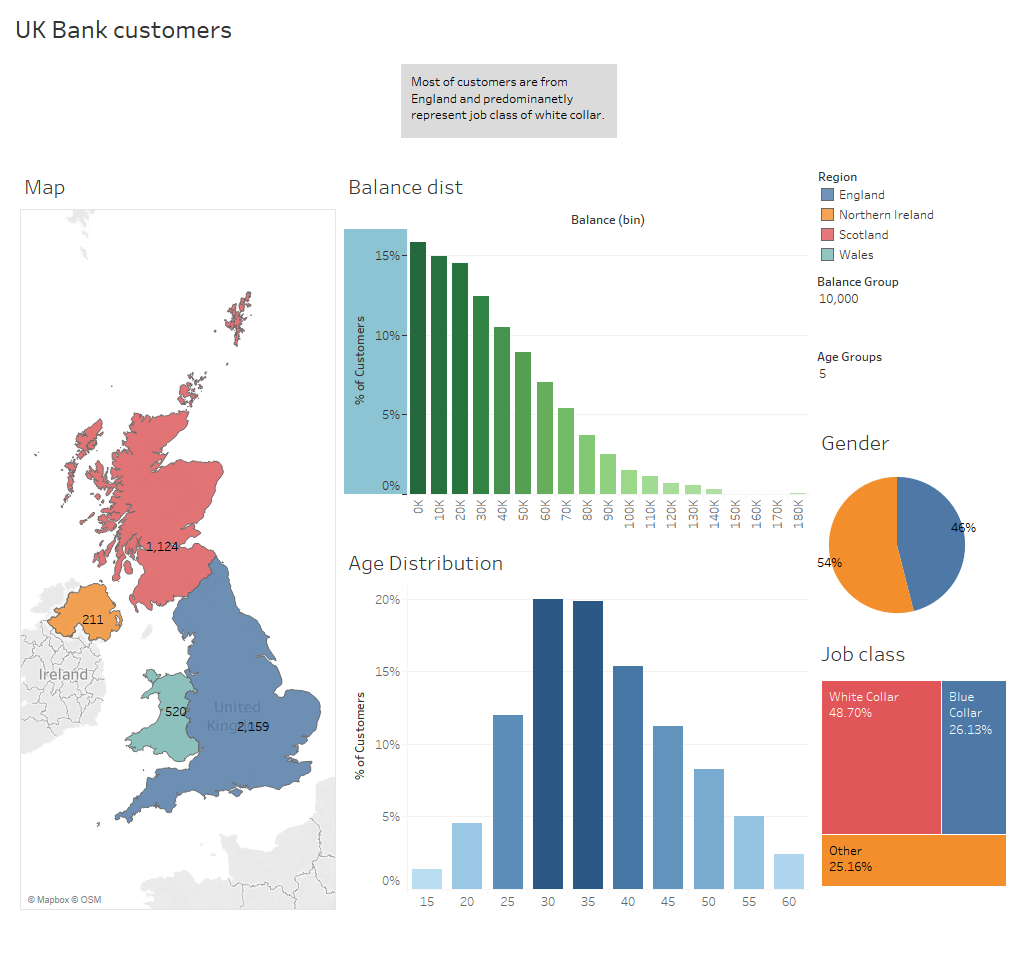

Layout of this report page (visuals, bound fields, positions):
{"tool":"tableau","page":{"name":"Dashboard 1","canvas":[1024,768],"ordinal":0},"visuals":[{"type":"worksheet","title":"Map","mark":"Multipolygon","box":[8,8,324.1,752]},{"type":"worksheet","title":"Balance dist","mark":"Automatic","rows":["Number of Records"],"cols":["Balance (bin)"],"box":[332.1,8,473,376]},{"type":"legend","title":"Map","param":"[federated.0als0vj0255fz810hfyob1jdxxc9].[none:Region:nk]","box":[805,8,211,106]},{"type":"parameter","param":"[Parameters].[Balance Parameter 2]","box":[805,114,211,75]},{"type":"parameter","param":"[Parameters].[Parameter 1]","box":[805,189,211,75]},{"type":"worksheet","title":"Gender","mark":"Pie","box":[805,264,211,211]},{"type":"worksheet","title":"Age Distribution","mark":"Automatic","rows":["Number of Records"],"cols":["Age (bin)"],"box":[332.1,384,473,376]},{"type":"worksheet","title":"Job class","mark":"Automatic","box":[805,475,211,265]}]}

Visuals, with their boxes on the page's 1024x768 design canvas (x1, y1, x2, y2). These are canvas units, not pixel positions in the 1016x964 screenshot, which may show the page scaled, cropped or inside an application window:
"Map" worksheet (Multipolygon marks): [8,8,332,760]
"Balance dist" worksheet: [332,8,805,384]
"Map" legend: [805,8,1016,114]
parameter: [805,114,1016,189]
parameter: [805,189,1016,264]
"Gender" worksheet (Pie marks): [805,264,1016,475]
"Age Distribution" worksheet: [332,384,805,760]
"Job class" worksheet: [805,475,1016,740]
